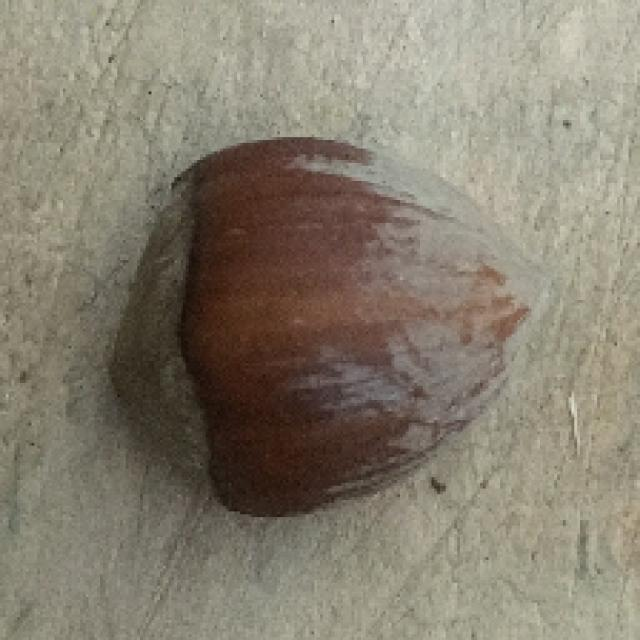qualityHazelnut: (102, 136, 548, 525)
